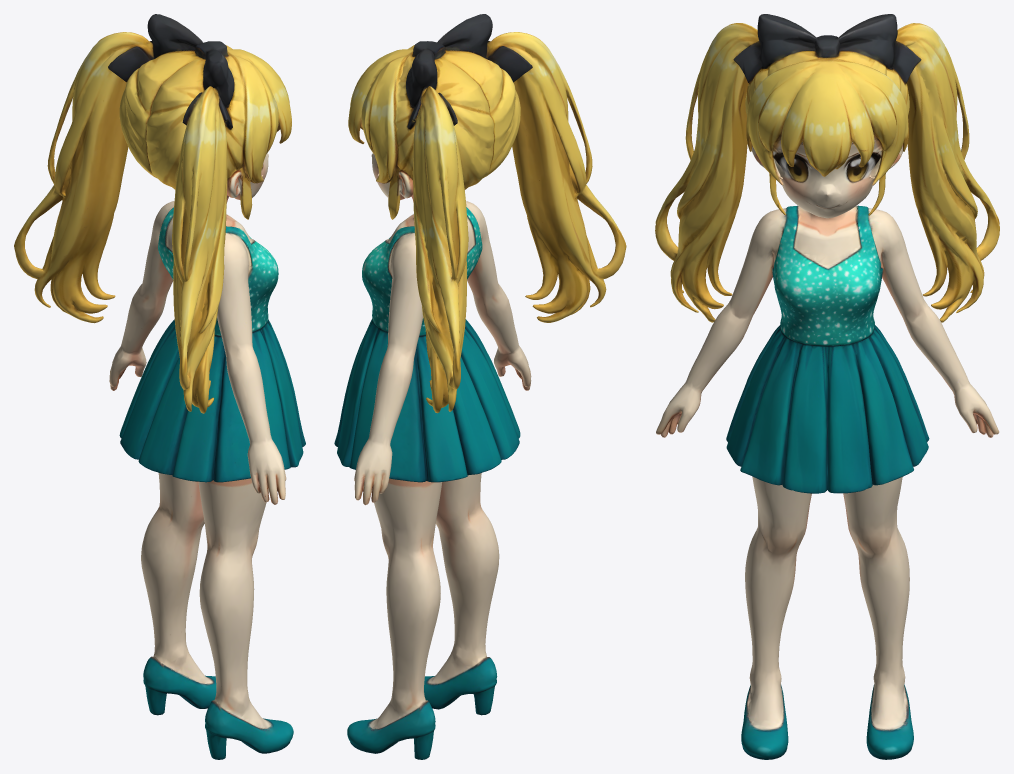
3 views of the same model, side by side, from view 1: azimuth 30°, elevation 25°; view 2: azimuth 150°, elevation 25°; view 3: azimuth 270°, elevation 25° (orthographic). The views are drawn at different scales.
Parts seen in each view (by area): view 1: tripo_node_07741653-595e-4825-8232-75a6c0bf2ca0; view 2: tripo_node_07741653-595e-4825-8232-75a6c0bf2ca0; view 3: tripo_node_07741653-595e-4825-8232-75a6c0bf2ca0.
Part boxes in pixels (bbox=[...]): tripo_node_07741653-595e-4825-8232-75a6c0bf2ca0: bbox=[14, 14, 305, 759]; tripo_node_07741653-595e-4825-8232-75a6c0bf2ca0: bbox=[334, 14, 626, 759]; tripo_node_07741653-595e-4825-8232-75a6c0bf2ca0: bbox=[655, 14, 999, 759].
Size of the model in its own units: 0.2923 by 1 by 0.4386.
Materials: 1 (1 with a texture image).
